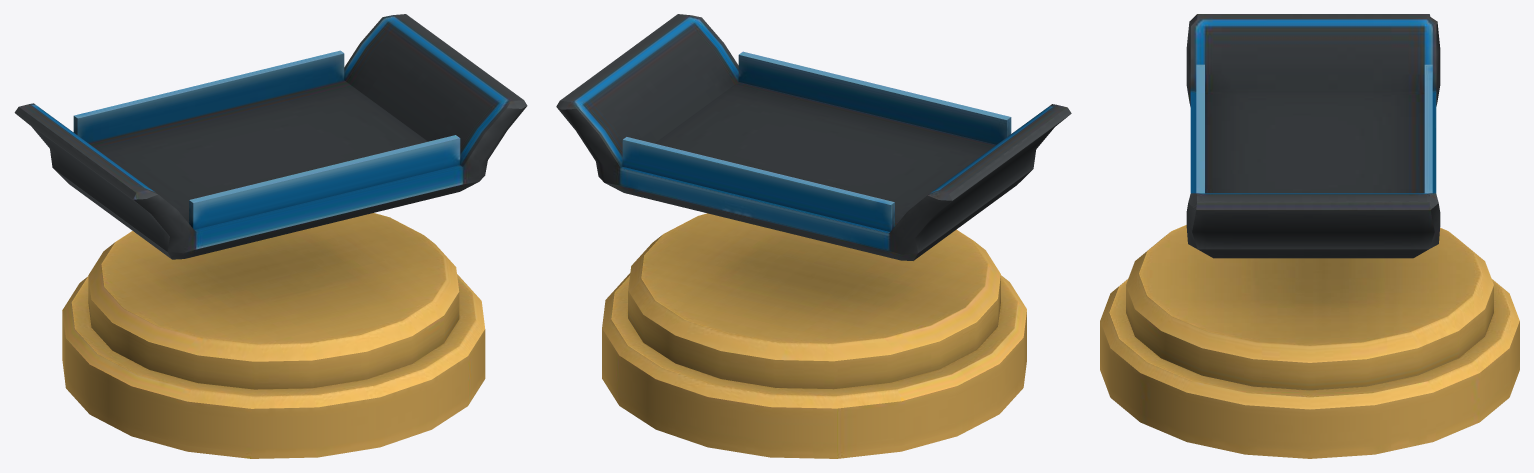
The model's file is CARROOURO.fbx.
3 renders of one model, left to right at view 1: azimuth 30°, elevation 25°; view 2: azimuth 150°, elevation 25°; view 3: azimuth 270°, elevation 25°, orthographic.
Parts seen in each view (by area): view 1: polySurface47, polySurface46; view 2: polySurface47, polySurface46; view 3: polySurface47, polySurface46.
Boxes of the visible parts, box(x1,y1,x2,y2) form: polySurface47: box(62, 213, 485, 458); polySurface46: box(14, 14, 527, 259); polySurface47: box(602, 213, 1026, 458); polySurface46: box(556, 14, 1071, 260); polySurface47: box(1100, 225, 1519, 458); polySurface46: box(1186, 14, 1440, 258).
Size of the model in its own units: 0.5112 by 0.3298 by 0.4773.
1 material, 1 textured.
